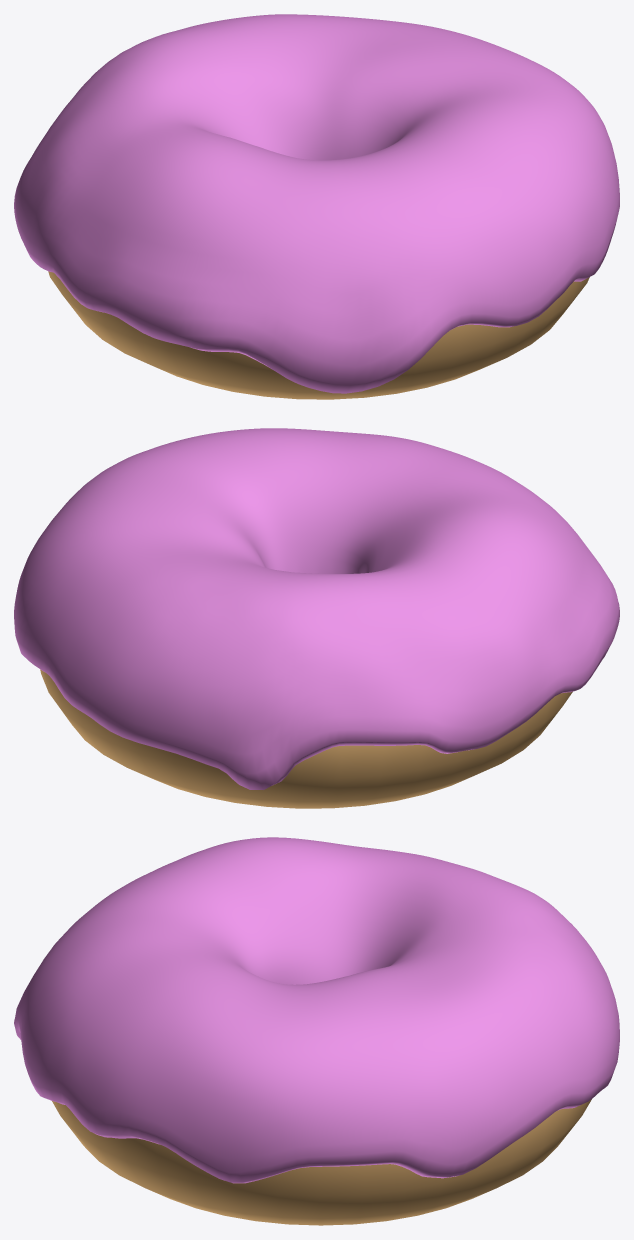
The model's file is donuta.glb.
The picture shows the model from 3 angles, top to bottom: view 1: azimuth 30°, elevation 25°; view 2: azimuth 150°, elevation 25°; view 3: azimuth 270°, elevation 25°; orthographic projection. The views are drawn at different scales.
Visible parts, largest first — view 1: Icing, Donut; view 2: Icing, Donut; view 3: Icing, Donut.
Boxes of the visible parts, left/top/right/bottom form: Icing: left=14, top=14, right=619, bottom=393; Donut: left=48, top=271, right=589, bottom=399; Icing: left=14, top=428, right=619, bottom=789; Donut: left=40, top=669, right=572, bottom=808; Icing: left=14, top=837, right=619, bottom=1183; Donut: left=52, top=1099, right=591, bottom=1225.
Bounding box in the file's own units: 0.1059 × 0.0442 × 0.1072.
